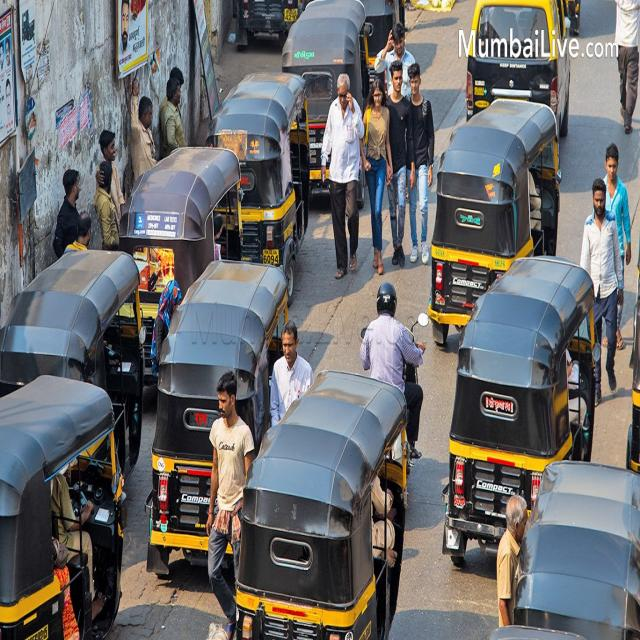autorikshaw: (242, 370, 407, 640), (447, 252, 597, 549), (148, 259, 292, 567), (4, 237, 144, 484), (0, 375, 124, 640), (430, 97, 560, 342), (122, 148, 241, 378), (211, 68, 309, 297), (280, 2, 374, 203)
car: (469, 0, 569, 139)
